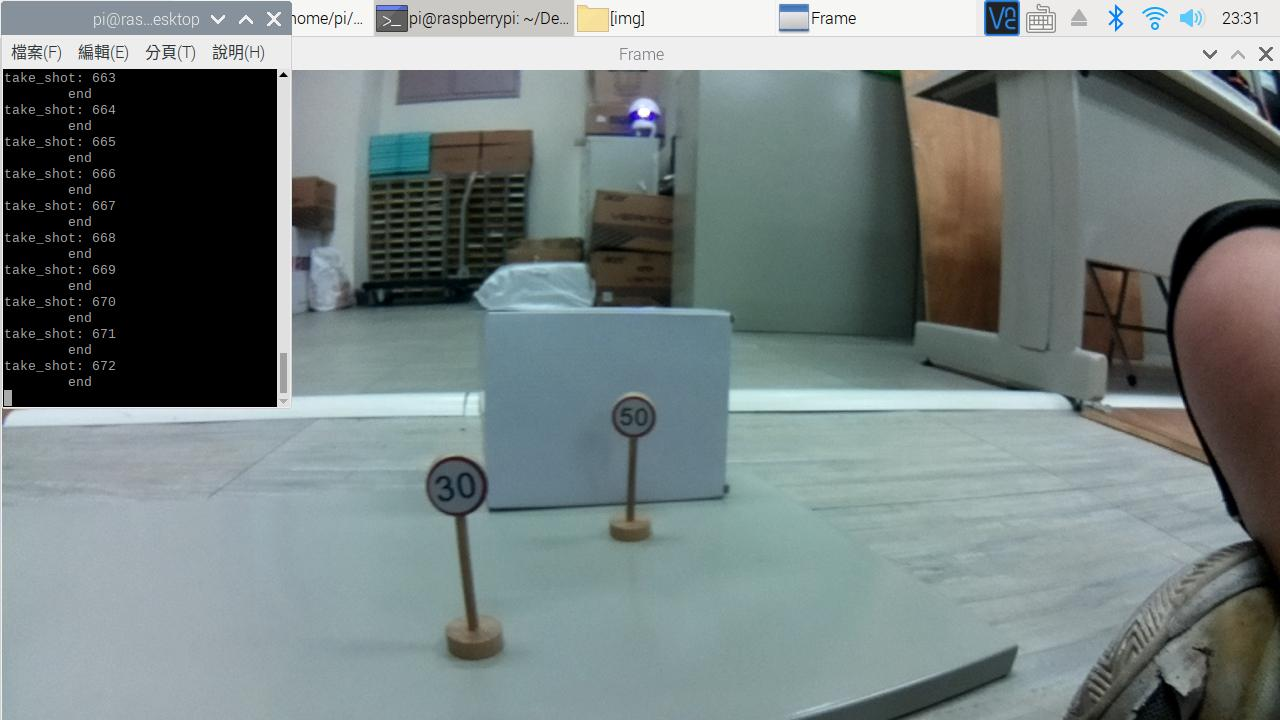Speed30: (416, 451, 498, 520)
Speed50: (598, 386, 666, 442)
